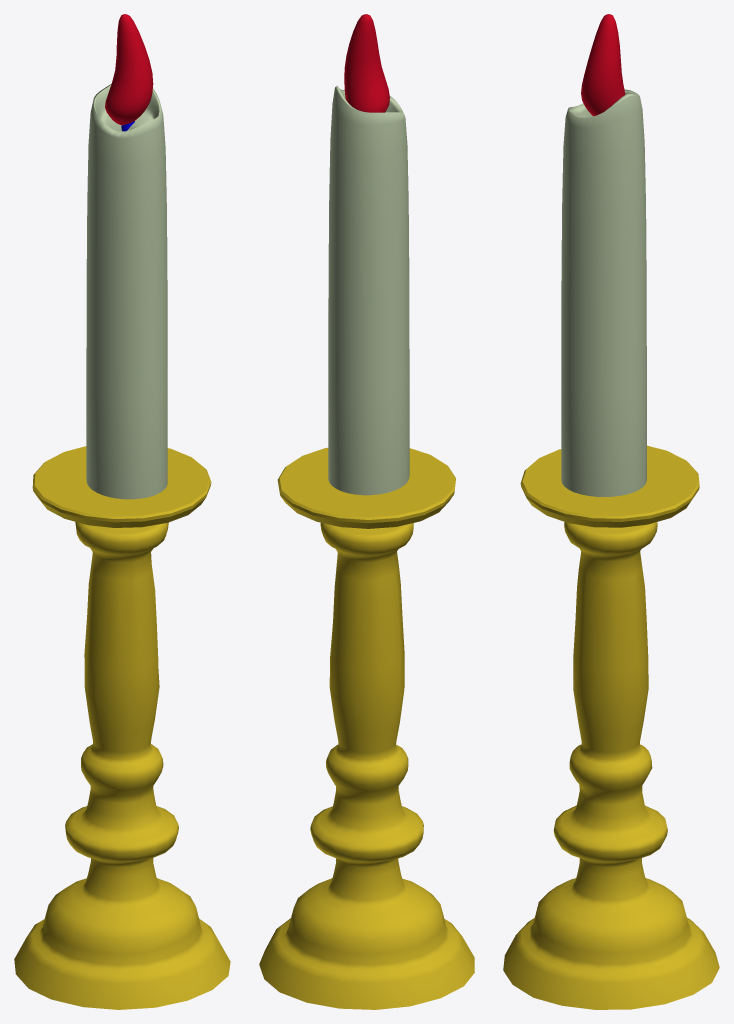
Rendered from espelma.obj.
The picture shows the model from 3 angles, left to right: view 1: azimuth 30°, elevation 25°; view 2: azimuth 150°, elevation 25°; view 3: azimuth 270°, elevation 25°; orthographic projection.
Parts seen in each view (by area): view 1: sorcerer_desk.010, sorcerer_desk.012, sorcerer_desk.013; view 2: sorcerer_desk.010, sorcerer_desk.012, sorcerer_desk.013; view 3: sorcerer_desk.010, sorcerer_desk.012, sorcerer_desk.013.
Boxes of the visible parts, box(x1,y1,x2,y2) form: sorcerer_desk.010: box(14, 446, 230, 1009); sorcerer_desk.012: box(86, 84, 167, 499); sorcerer_desk.013: box(105, 14, 153, 125); sorcerer_desk.010: box(259, 447, 474, 1009); sorcerer_desk.012: box(328, 85, 409, 495); sorcerer_desk.013: box(344, 14, 389, 112); sorcerer_desk.010: box(503, 445, 719, 1009); sorcerer_desk.012: box(561, 89, 646, 496); sorcerer_desk.013: box(581, 14, 625, 116).
Size of the model in its own units: 0.5302 by 2.56 by 0.5287.
